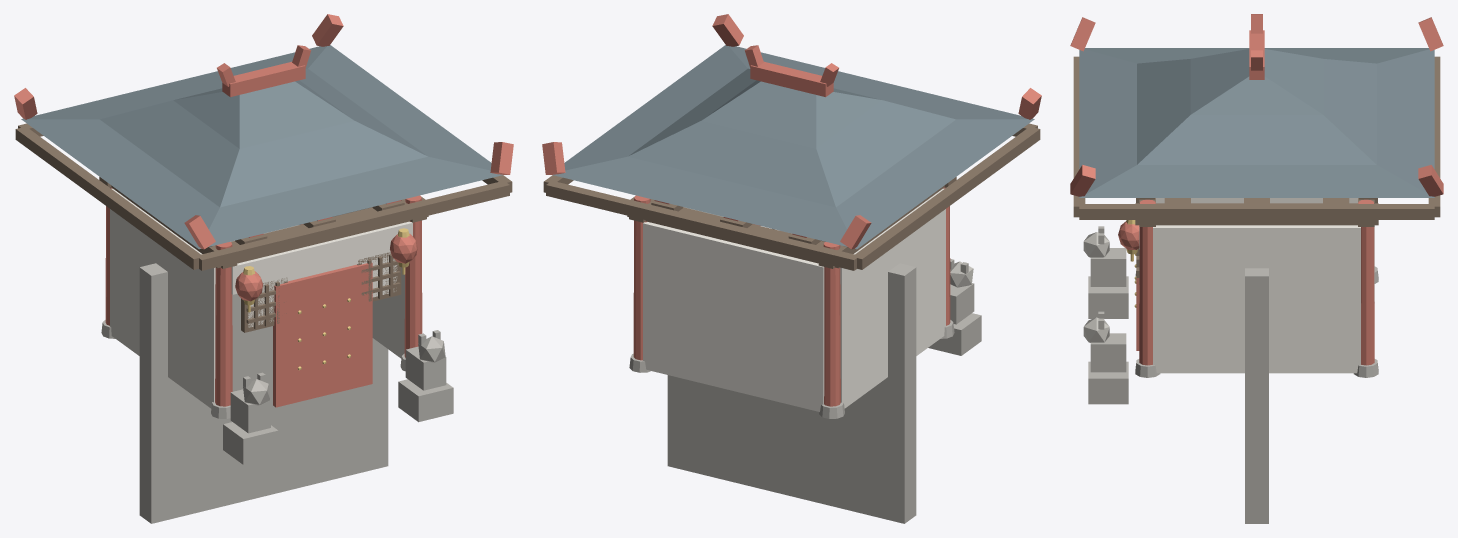
File: SM_Building_CasaHan.fbx
The picture shows the model from 3 angles, left to right: view 1: azimuth 30°, elevation 25°; view 2: azimuth 150°, elevation 25°; view 3: azimuth 270°, elevation 25°; orthographic projection.
Parts seen in each view (by area): view 1: CasaHan; view 2: CasaHan; view 3: CasaHan.
Boxes of the visible parts, x1,y1,x2,y2 form: CasaHan: (14,14,513,523); CasaHan: (542,14,1041,523); CasaHan: (1070,14,1443,523).
Bounding box in the file's own units: 3.15 × 4.03 × 3.14.
